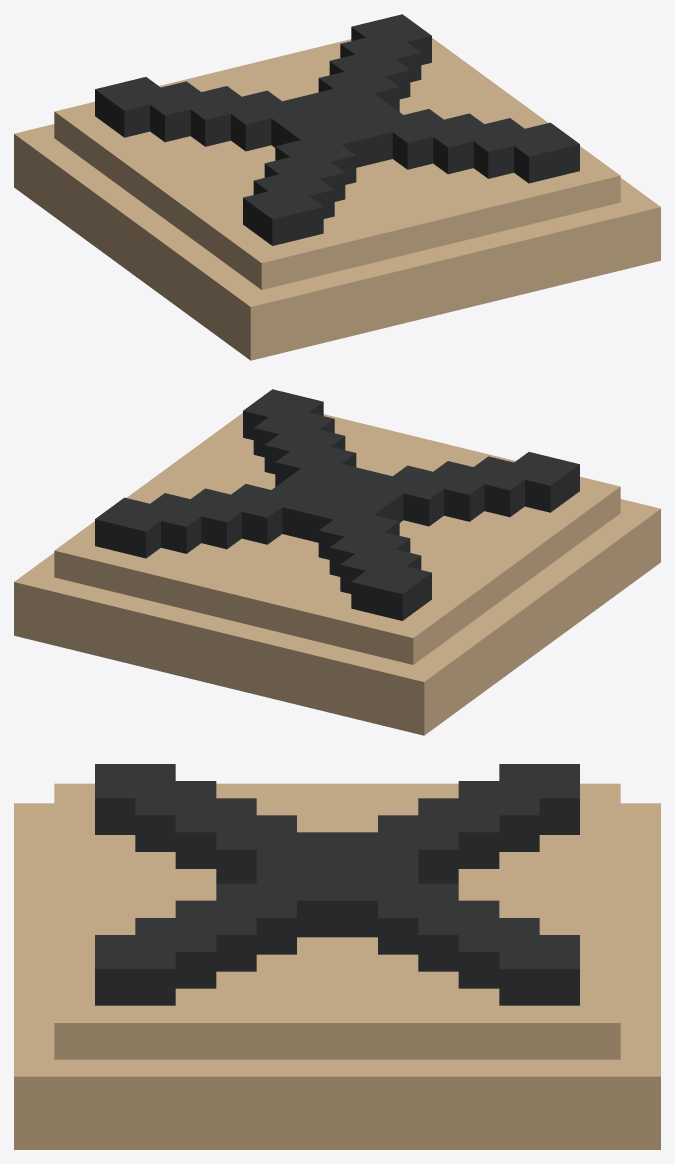
Rendered from x-v2-tan-black.gltf.
3 renders of one model, top to bottom at view 1: azimuth 30°, elevation 25°; view 2: azimuth 150°, elevation 25°; view 3: azimuth 270°, elevation 25°, orthographic. The views are drawn at different scales.
Visible parts, largest first — view 1: Untitled; view 2: Untitled; view 3: Untitled.
Part boxes in pixels (x1,y1,x2,y2): Untitled: [14, 14, 660, 360]; Untitled: [14, 389, 660, 735]; Untitled: [14, 764, 660, 1149].
Size of the model in its own units: 1.6 by 0.4 by 1.6.
Materials: 1 (1 with a texture image).
